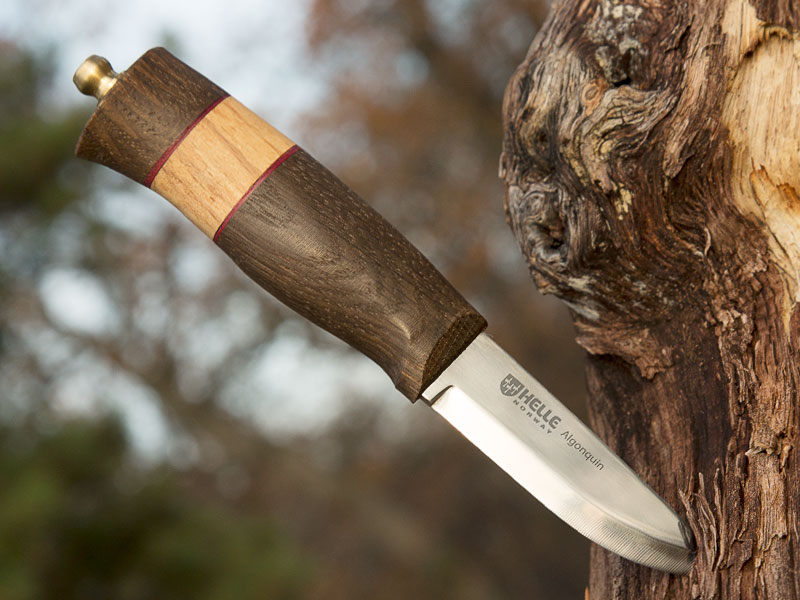knife: (379, 303, 715, 583)
